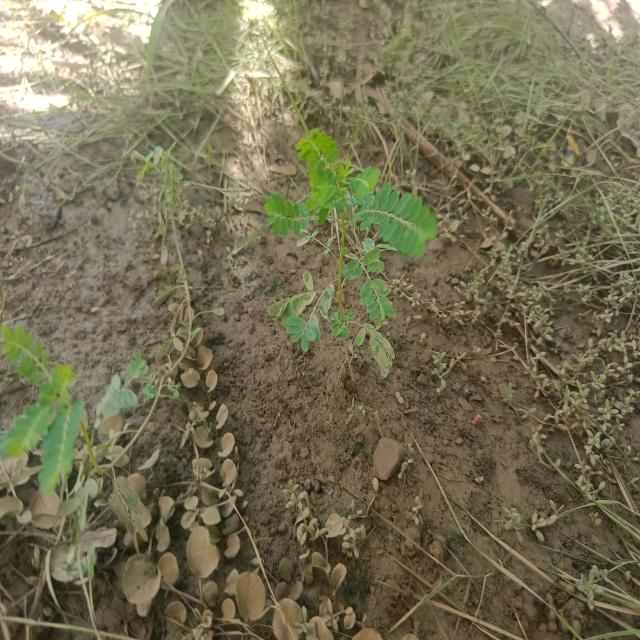weed: (266, 117, 442, 354), (0, 311, 93, 495)
